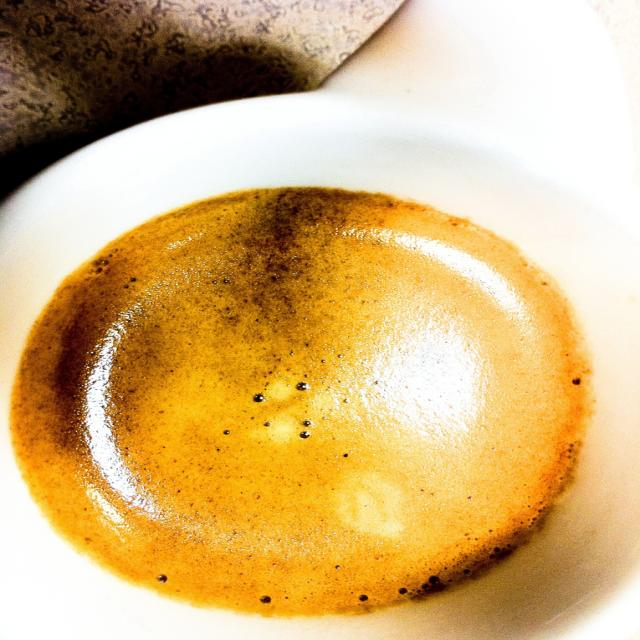Coffee: (29, 125, 567, 640)
